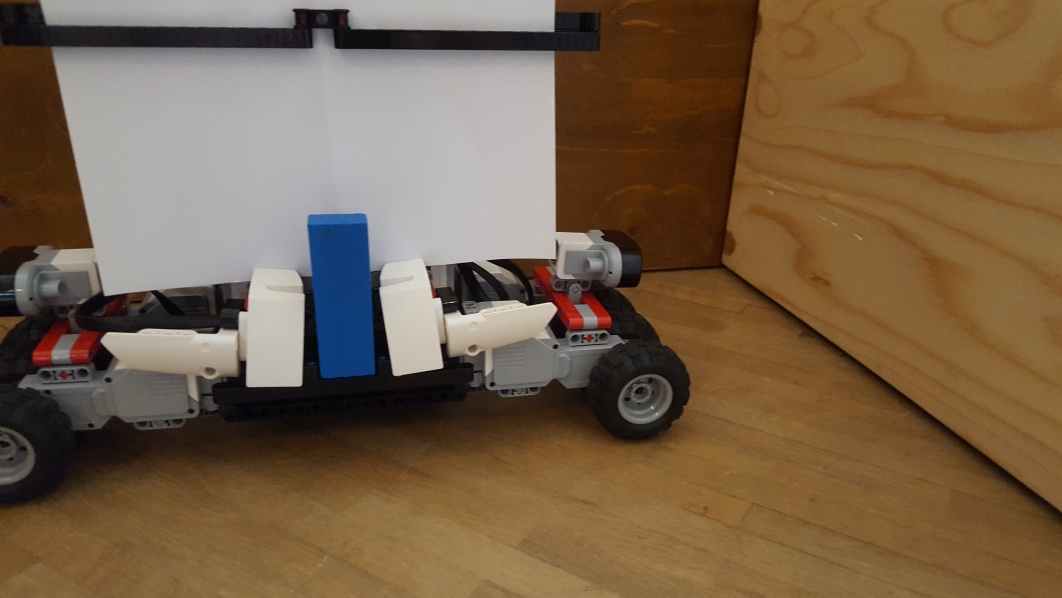car: (1, 5, 693, 506)
